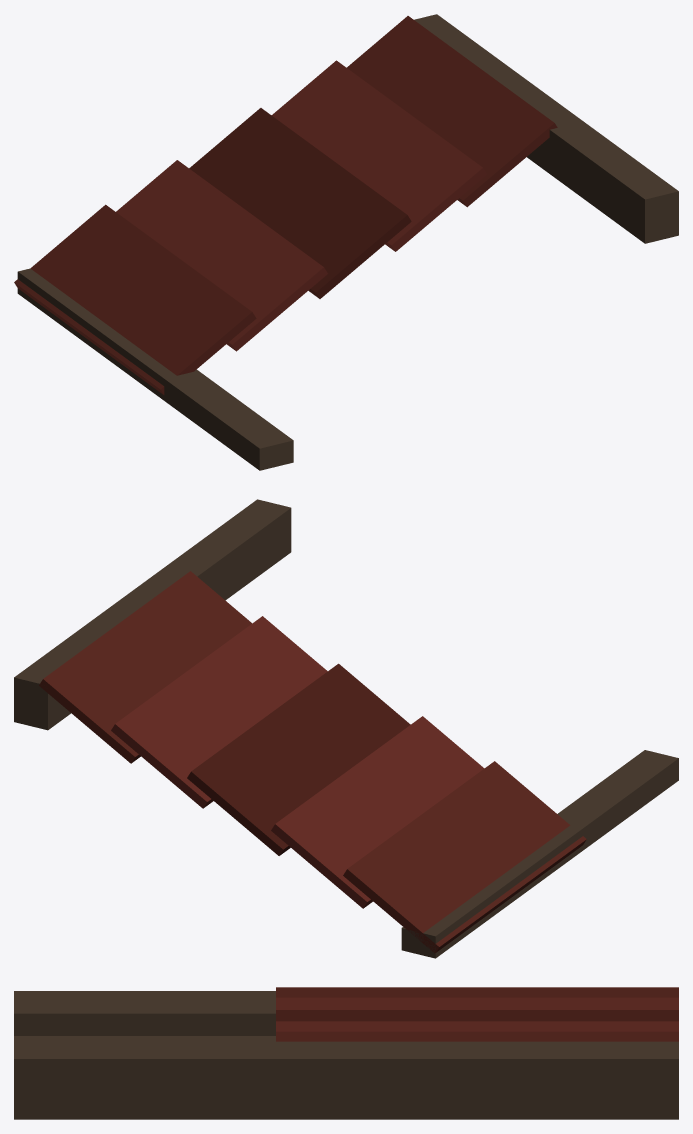
The model's file is A_Roof01.fbx.
3 views of the same model, one above another, from view 1: azimuth 30°, elevation 25°; view 2: azimuth 150°, elevation 25°; view 3: azimuth 270°, elevation 25° (orthographic). The views are drawn at different scales.
Parts seen in each view (by area): view 1: A_Roof01; view 2: A_Roof01; view 3: A_Roof01.
Part boxes in pixels (x1,y1,x2,y2): A_Roof01: (14,14,678,470); A_Roof01: (14,499,678,958); A_Roof01: (14,987,678,1119).
Bounding box in the file's own units: 99.9 × 41.27 × 99.
